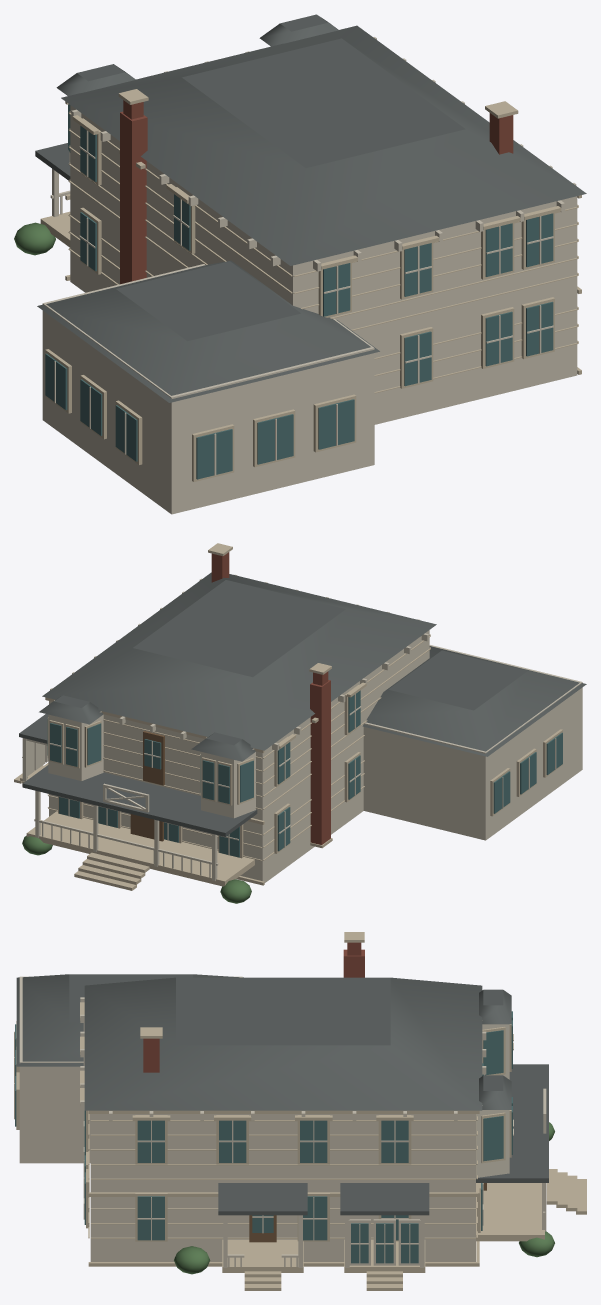
File: collier-house-exterior-bays-2026-11-04.glb
3 renders of one model, top to bottom at view 1: azimuth 30°, elevation 25°; view 2: azimuth 150°, elevation 25°; view 3: azimuth 270°, elevation 25°, orthographic. The views are drawn at different scales.
Parts seen in each view (by area): view 1: collier-part-0, collier-part-1; view 2: collier-part-0, collier-part-1; view 3: collier-part-0, collier-part-1.
Part boxes in pixels (x1=…): collier-part-0: x1=35, y1=14, x2=586, y2=514; collier-part-1: x1=14, y1=222, x2=55, y2=255; collier-part-0: x1=14, y1=543, x2=586, y2=890; collier-part-1: x1=22, y1=835, x2=251, y2=903; collier-part-0: x1=14, y1=932, x2=586, y2=1290; collier-part-1: x1=174, y1=1122, x2=554, y2=1274.
Bounding box in the file's own units: 26.65 × 11.82 × 28.24.
